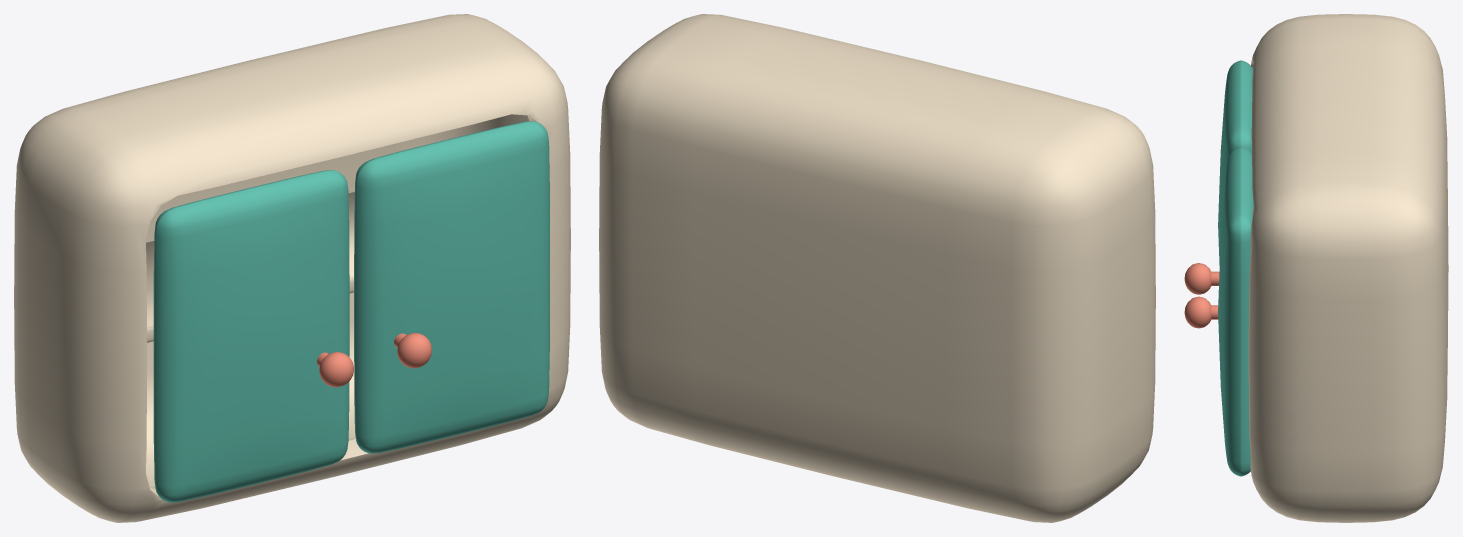
File: upper_a.glb
3 views of the same model, side by side, from view 1: azimuth 30°, elevation 25°; view 2: azimuth 150°, elevation 25°; view 3: azimuth 270°, elevation 25° (orthographic). The views are drawn at different scales.
Visible parts, largest first — view 1: body, door_l, door_r; view 2: body; view 3: body, door_r, door_l.
Part boxes in pixels (x1,y1,x2,y2): body: [14, 14, 570, 522]; door_l: [153, 170, 353, 502]; door_r: [354, 121, 549, 453]; body: [599, 14, 1155, 522]; body: [1248, 14, 1448, 522]; door_r: [1184, 147, 1253, 476]; door_l: [1184, 60, 1252, 294].
Size of the model in its own units: 0.9 by 0.66 by 0.464.
